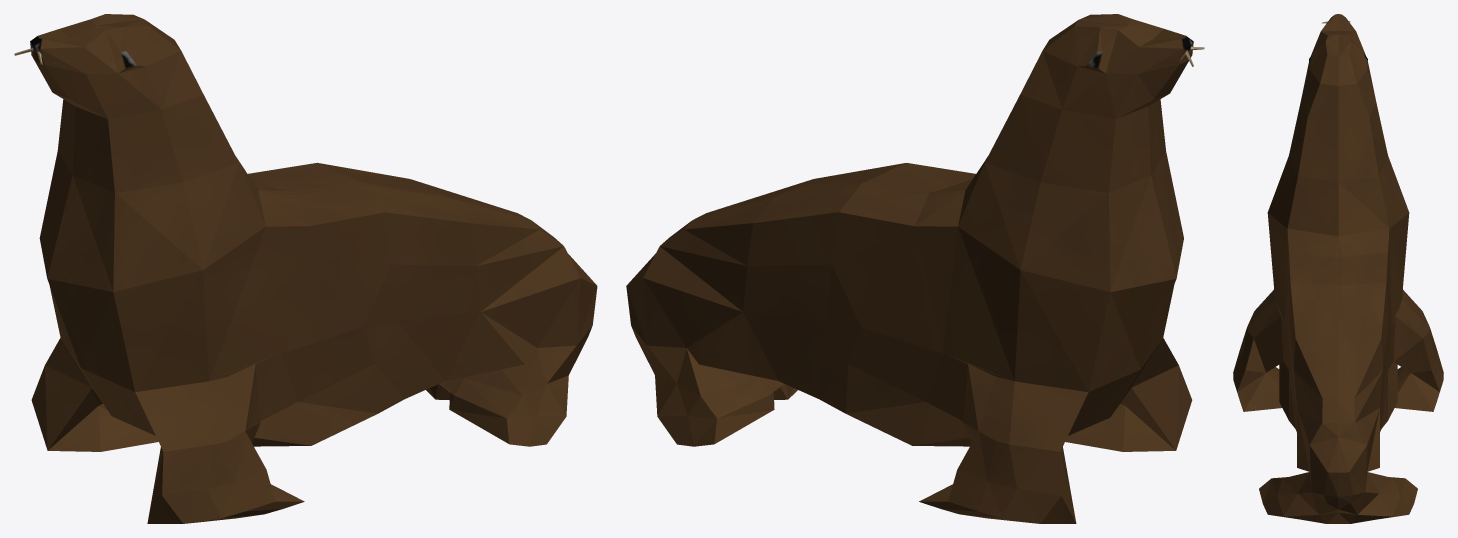
The model's file is LeonMarino2.fbx.
The picture shows the model from 3 angles, left to right: view 1: azimuth 30°, elevation 25°; view 2: azimuth 150°, elevation 25°; view 3: azimuth 270°, elevation 25°; orthographic projection. The views are drawn at different scales.
Parts seen in each view (by area): view 1: LeonMarino2; view 2: LeonMarino2; view 3: LeonMarino2.
Part boxes in pixels (left/top/right/bottom): LeonMarino2: left=14, top=14, right=597, bottom=523; LeonMarino2: left=626, top=14, right=1204, bottom=523; LeonMarino2: left=1233, top=14, right=1443, bottom=523.
Bounding box in the file's own units: 2.2 × 1.81 × 0.9953.
Materials: 1 (1 with a texture image).
